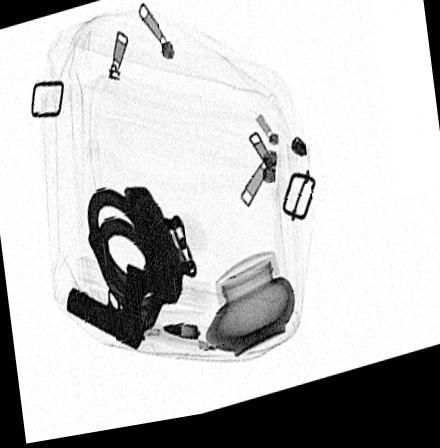Bullet: (162, 329, 196, 348)
Gun: (66, 272, 146, 353)
HandCuffs: (84, 189, 199, 338)
